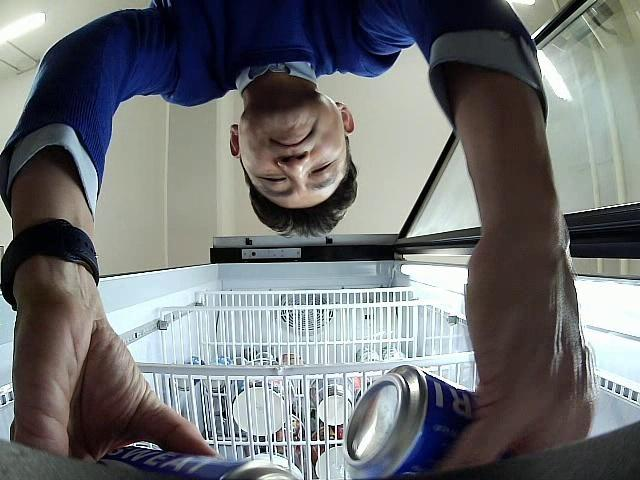13_pocariSweat: (344, 365, 478, 480), (98, 446, 308, 480), (98, 455, 303, 480)
